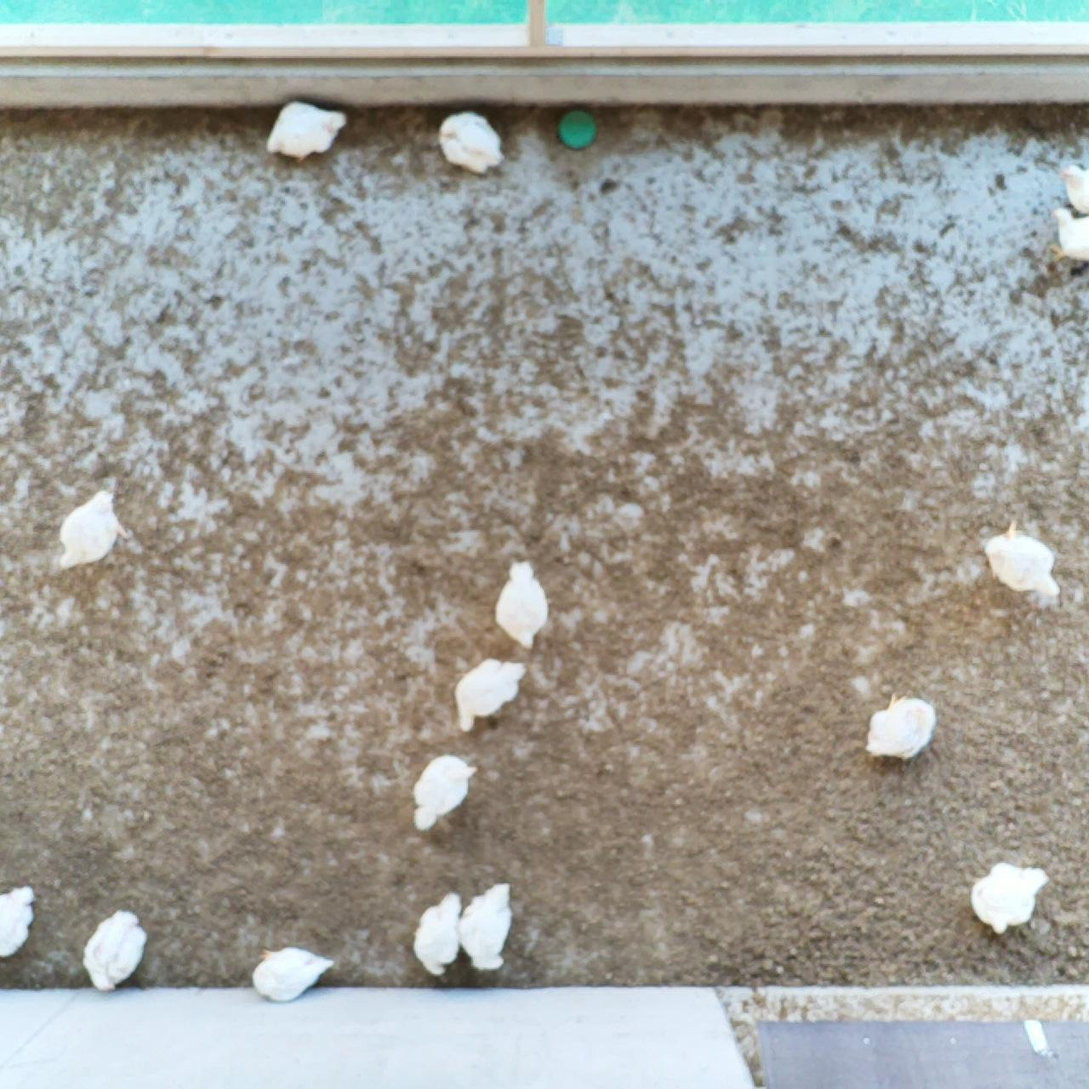chicken: (53, 486, 134, 580), (964, 858, 1053, 938), (982, 516, 1063, 603), (449, 654, 529, 740), (81, 905, 151, 996), (864, 681, 939, 765), (454, 879, 520, 974), (410, 750, 482, 835), (491, 556, 552, 655), (264, 97, 350, 167), (249, 942, 338, 1005), (434, 105, 508, 178), (408, 889, 466, 978), (0, 880, 42, 960), (1046, 207, 1089, 268), (1056, 160, 1089, 216)
